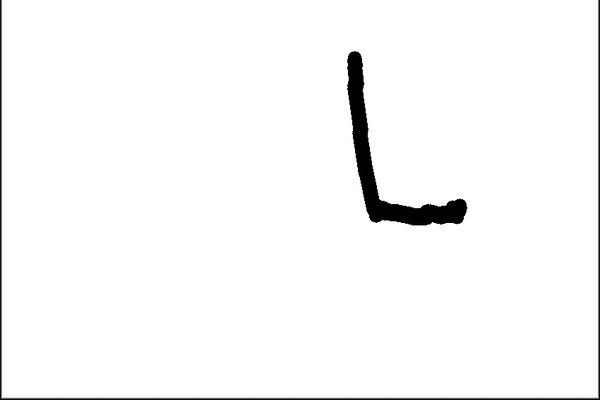L: (338, 45, 475, 231)
